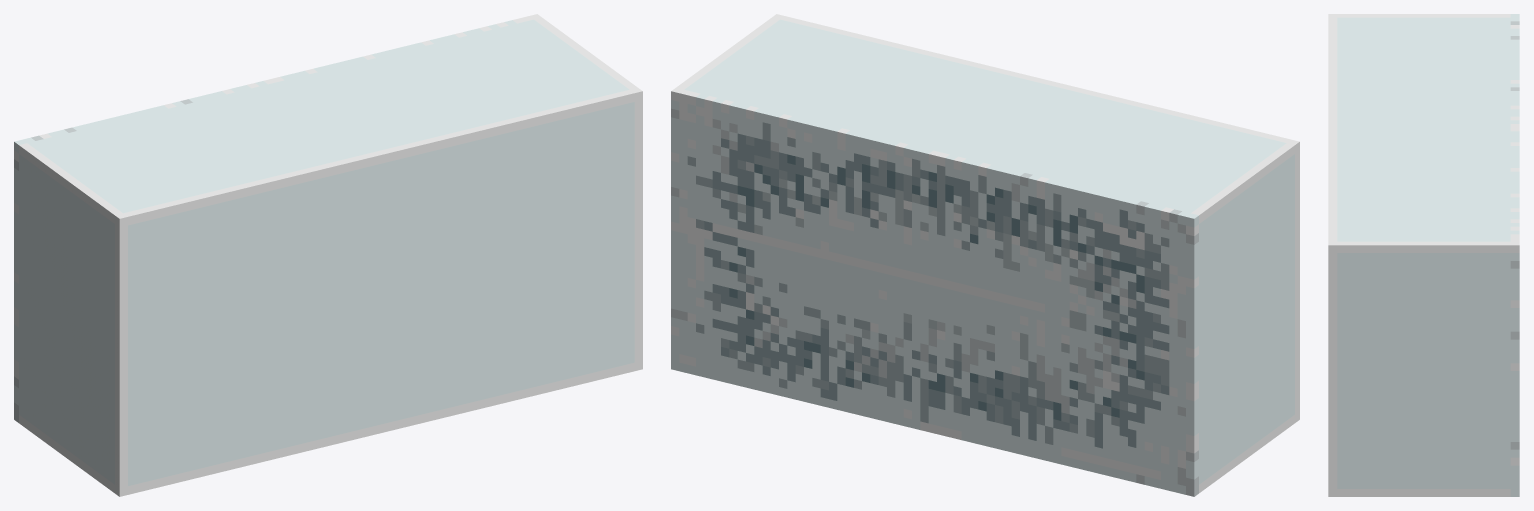
Rendered from ice.FBX.
The picture shows the model from 3 angles, left to right: view 1: azimuth 30°, elevation 25°; view 2: azimuth 150°, elevation 25°; view 3: azimuth 270°, elevation 25°; orthographic projection. The views are drawn at different scales.
Parts seen in each view (by area): view 1: default004; view 2: default004; view 3: default004.
Part boxes in pixels (x1,y1,x2,y2): default004: [14, 14, 642, 496]; default004: [671, 14, 1299, 496]; default004: [1328, 14, 1519, 496].
Size of the model in its own units: 1890 by 960 by 660.
